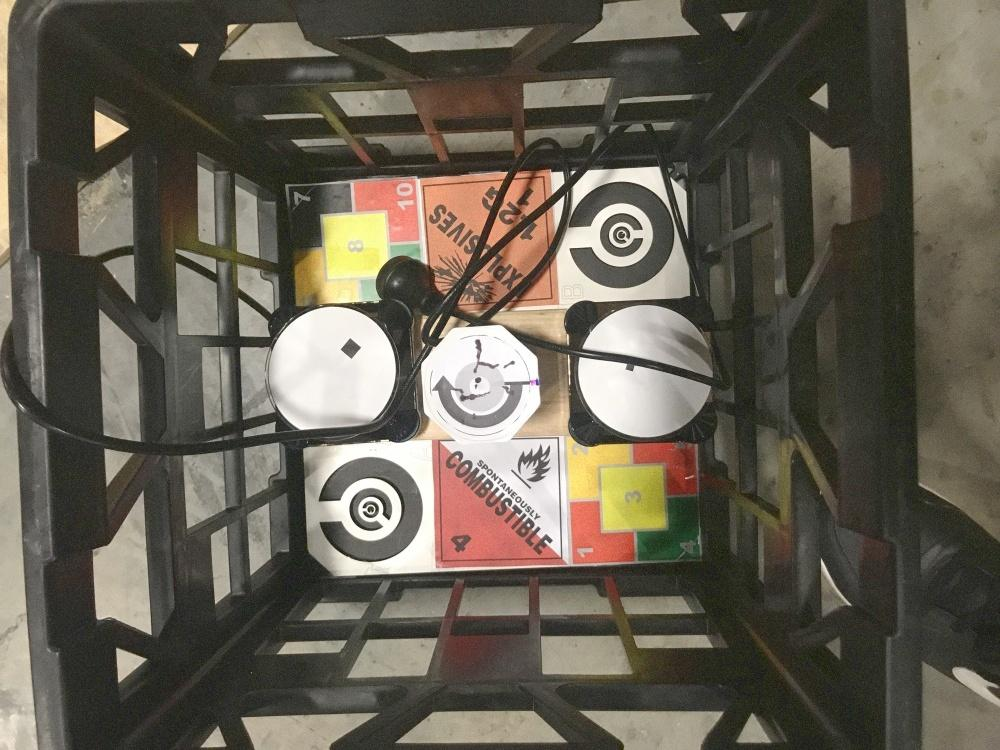explosive: (419, 170, 553, 315)
spontaneously-combustible: (435, 433, 566, 573)
